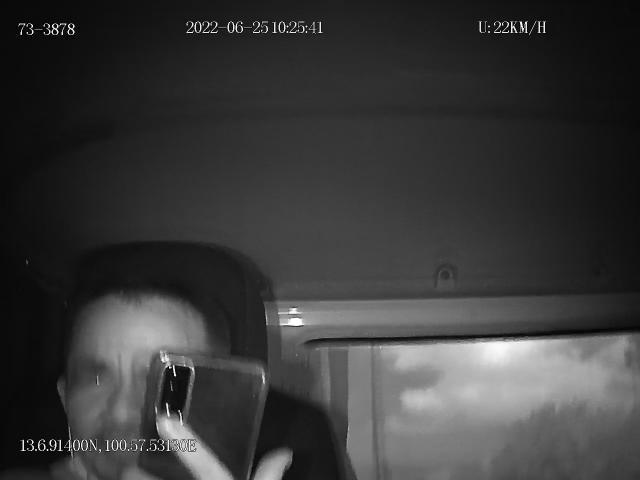PhoneUse: (134, 348, 268, 480)
